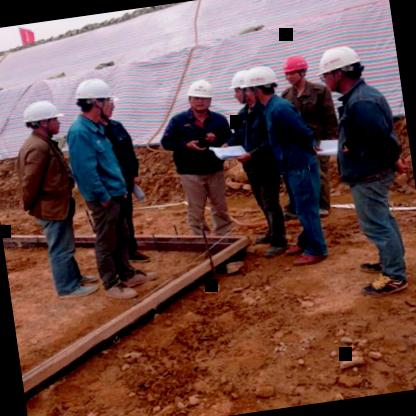helmet: (311, 39, 371, 94), (70, 72, 119, 122), (19, 96, 64, 140), (240, 63, 284, 104), (183, 75, 217, 118), (278, 50, 312, 90), (228, 68, 254, 108)
